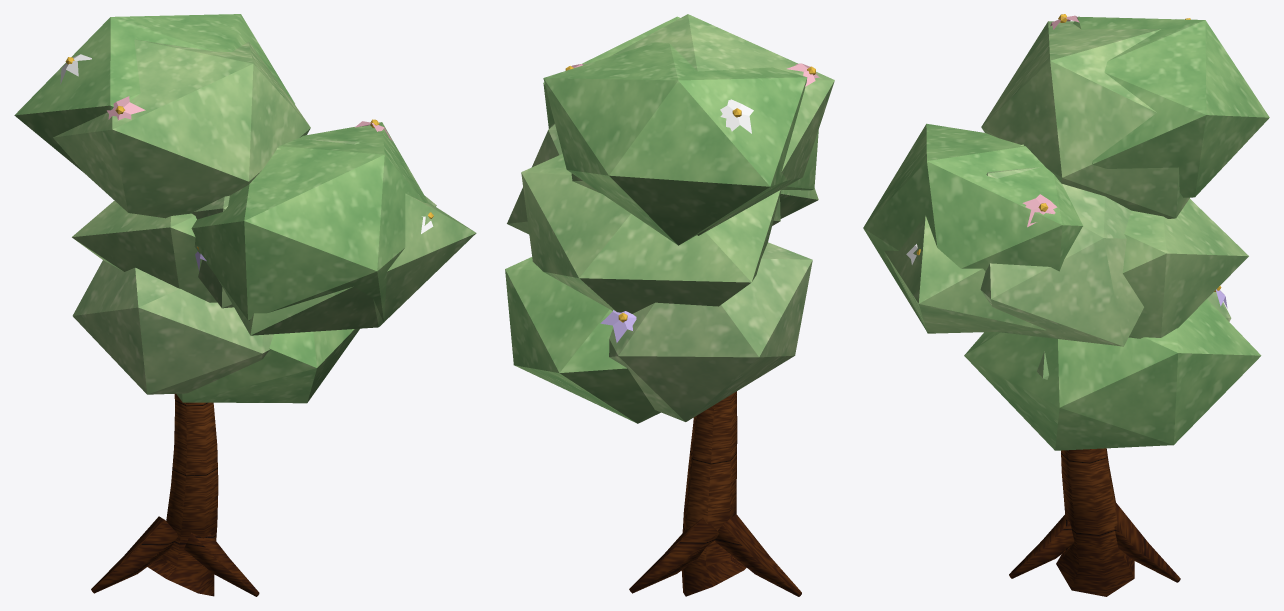
The model's file is tree_sky_b.glb.
The picture shows the model from 3 angles, left to right: view 1: azimuth 30°, elevation 25°; view 2: azimuth 150°, elevation 25°; view 3: azimuth 270°, elevation 25°; orthographic projection. The views are drawn at different scales.
Parts seen in each view (by area): view 1: tree_sky_b; view 2: tree_sky_b; view 3: tree_sky_b.
Part boxes in pixels (<box>): tree_sky_b: <box>14,14,476,596</box>; tree_sky_b: <box>505,14,834,596</box>; tree_sky_b: <box>863,14,1269,596</box>.
Bounding box in the file's own units: 2.39 × 3.91 × 2.6.
Materials: 3 (2 with a texture image).
